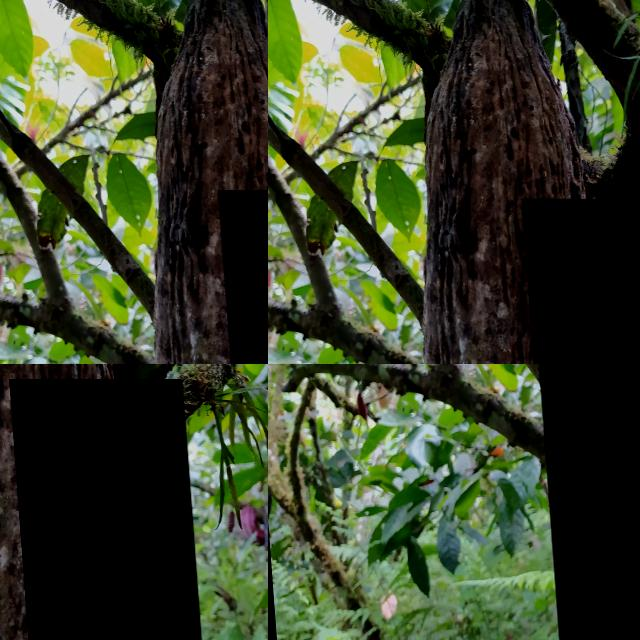Fitoftora: (5, 379, 202, 640), (517, 364, 640, 640), (518, 199, 640, 364)
